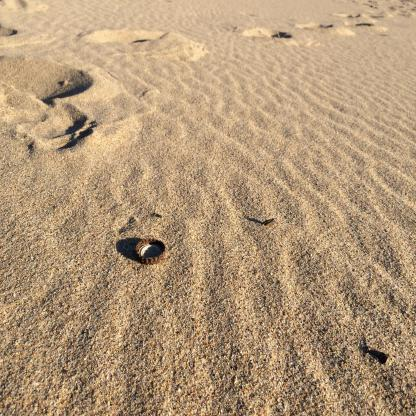metal: (136, 240, 167, 266)
